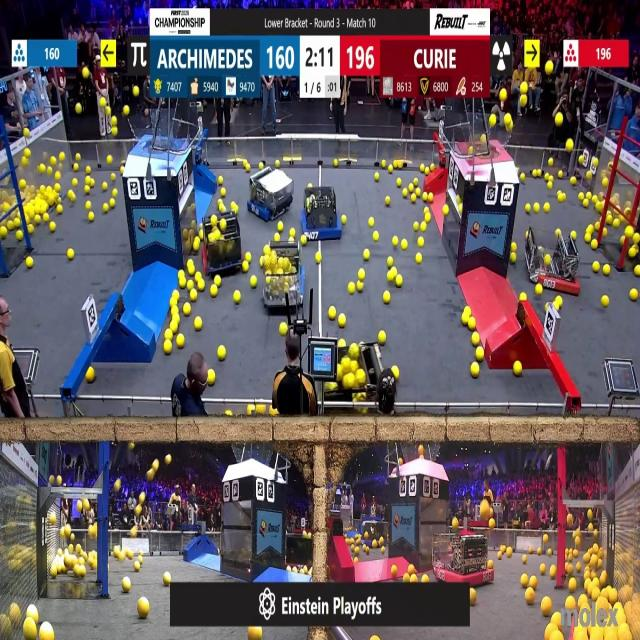ball_airborne: (481, 500, 490, 518), (555, 112, 564, 126), (90, 525, 98, 537), (504, 113, 511, 126), (520, 96, 528, 107), (566, 139, 573, 151), (521, 84, 528, 96), (499, 90, 506, 102), (545, 62, 552, 74), (489, 114, 496, 125), (147, 469, 154, 480), (75, 104, 82, 115), (152, 460, 159, 471), (419, 446, 425, 458), (566, 515, 572, 527), (134, 86, 141, 96), (22, 158, 29, 168), (49, 158, 56, 168), (122, 105, 128, 116), (82, 68, 88, 79), (65, 526, 71, 537), (37, 162, 43, 173), (116, 481, 122, 492), (100, 98, 106, 108), (111, 115, 117, 125), (136, 504, 142, 514), (164, 453, 170, 463), (588, 511, 594, 521), (132, 528, 138, 538), (140, 493, 145, 504), (25, 148, 31, 157), (488, 520, 494, 529), (602, 178, 608, 187), (570, 176, 576, 185), (58, 477, 63, 487), (574, 535, 579, 545), (481, 136, 487, 144), (588, 172, 594, 180), (112, 128, 117, 137), (593, 159, 598, 168), (578, 154, 583, 163), (25, 129, 30, 138), (467, 146, 472, 155), (589, 524, 594, 532), (106, 106, 110, 115), (71, 534, 76, 541)
ball_ground: (40, 624, 53, 640), (139, 598, 149, 618), (26, 622, 37, 640), (540, 598, 550, 615), (249, 627, 261, 640), (514, 360, 523, 376), (566, 596, 576, 610), (208, 371, 216, 386), (88, 366, 96, 381), (526, 589, 534, 604), (468, 590, 476, 605), (379, 332, 387, 346), (470, 362, 478, 376), (474, 348, 482, 362), (122, 579, 130, 593), (186, 262, 194, 276), (568, 580, 576, 594), (176, 336, 184, 349), (339, 314, 347, 327), (553, 614, 561, 627), (218, 346, 225, 360), (470, 334, 478, 346), (630, 288, 638, 300), (165, 342, 173, 354), (348, 282, 356, 294), (280, 322, 287, 335), (328, 307, 335, 320), (192, 239, 199, 252), (256, 406, 265, 416), (387, 271, 395, 282), (193, 318, 200, 330), (27, 256, 34, 268), (250, 276, 257, 288), (211, 285, 218, 297), (235, 290, 242, 302), (165, 572, 172, 584), (183, 304, 190, 316), (357, 270, 364, 282), (522, 574, 529, 586), (198, 280, 205, 292), (392, 366, 399, 378), (0, 228, 7, 240), (550, 566, 557, 578), (556, 296, 563, 308), (356, 282, 364, 292), (558, 192, 566, 202), (165, 329, 173, 339), (628, 248, 636, 258), (626, 226, 634, 236), (602, 295, 609, 306), (68, 249, 75, 260), (395, 276, 402, 287), (603, 266, 610, 277), (189, 290, 196, 301), (171, 321, 178, 332), (463, 307, 470, 318), (243, 262, 249, 274), (468, 318, 474, 330), (339, 340, 347, 349), (179, 279, 186, 289), (387, 256, 394, 266), (214, 276, 221, 286), (186, 280, 193, 290), (68, 189, 75, 199), (533, 204, 540, 214), (210, 215, 217, 225), (452, 519, 459, 529), (535, 284, 541, 295), (384, 291, 390, 302), (594, 263, 600, 274), (316, 252, 322, 263), (363, 249, 369, 260), (530, 575, 536, 586), (272, 410, 280, 418), (556, 632, 564, 640), (245, 252, 252, 261), (108, 200, 115, 209), (402, 573, 409, 582), (49, 222, 55, 232), (444, 206, 450, 216), (16, 232, 22, 242), (418, 238, 424, 248), (540, 564, 546, 574), (511, 253, 517, 263), (172, 307, 178, 317), (634, 267, 640, 277), (412, 192, 418, 202), (371, 232, 377, 242), (134, 562, 140, 572), (299, 236, 305, 246), (506, 548, 512, 558), (420, 221, 426, 231), (413, 222, 420, 230), (170, 297, 178, 304), (178, 271, 185, 279), (428, 192, 435, 200), (259, 256, 264, 267), (275, 234, 281, 243), (392, 238, 398, 247), (592, 241, 598, 250), (72, 178, 78, 187), (265, 246, 271, 255), (35, 215, 41, 224), (29, 224, 35, 233), (278, 222, 284, 231), (512, 243, 518, 252), (375, 173, 381, 182), (424, 214, 430, 223), (220, 187, 226, 196), (88, 202, 94, 211), (525, 204, 531, 213), (602, 229, 608, 238), (578, 191, 584, 200), (13, 218, 19, 227), (56, 172, 62, 181), (84, 177, 90, 186), (7, 220, 13, 229), (217, 201, 223, 210), (417, 253, 422, 263), (401, 240, 406, 250), (391, 566, 396, 576), (90, 212, 95, 222), (543, 204, 548, 214), (247, 408, 252, 418), (412, 574, 418, 582), (43, 214, 49, 222), (546, 182, 552, 190), (422, 574, 428, 582), (194, 272, 200, 280), (102, 182, 108, 190), (84, 185, 90, 193), (173, 290, 179, 298), (420, 166, 426, 174), (584, 200, 590, 208), (409, 183, 415, 191), (90, 178, 96, 186), (381, 161, 387, 169), (342, 216, 348, 224), (571, 232, 576, 241), (402, 188, 407, 197), (586, 235, 591, 244), (396, 178, 401, 187), (103, 204, 108, 213), (423, 191, 428, 200), (56, 183, 61, 192), (588, 225, 594, 232), (380, 545, 386, 552), (499, 544, 505, 551), (331, 161, 337, 168), (521, 292, 526, 300), (58, 206, 63, 214), (368, 217, 372, 227), (218, 176, 223, 184), (112, 188, 117, 196), (547, 160, 552, 168), (523, 556, 528, 564), (557, 230, 562, 238), (416, 188, 421, 196), (355, 548, 360, 556), (304, 566, 309, 574), (542, 534, 547, 542), (489, 560, 494, 568), (380, 537, 385, 545), (61, 152, 66, 160), (410, 564, 414, 573), (108, 157, 112, 166), (225, 412, 231, 418), (388, 167, 393, 174), (111, 174, 116, 181), (543, 174, 548, 181), (532, 171, 537, 178), (267, 278, 272, 285), (424, 208, 429, 215), (276, 162, 281, 169), (415, 178, 420, 185), (430, 165, 435, 172), (386, 198, 390, 206), (521, 174, 525, 182), (290, 230, 294, 238), (74, 165, 78, 173), (76, 152, 80, 160), (243, 164, 247, 172), (596, 222, 600, 230), (201, 232, 205, 240), (85, 166, 89, 173), (547, 550, 551, 557), (529, 545, 533, 552), (536, 547, 540, 554), (498, 553, 502, 559), (119, 168, 123, 174), (308, 182, 312, 188), (354, 558, 358, 564)
goal: (129, 115, 187, 152), (461, 121, 516, 159)
robot_blue: (260, 242, 308, 316), (248, 164, 294, 221), (302, 186, 340, 242)
robot_red: (321, 340, 374, 414), (436, 524, 493, 584), (528, 233, 581, 293), (203, 212, 244, 277), (284, 533, 313, 573)
